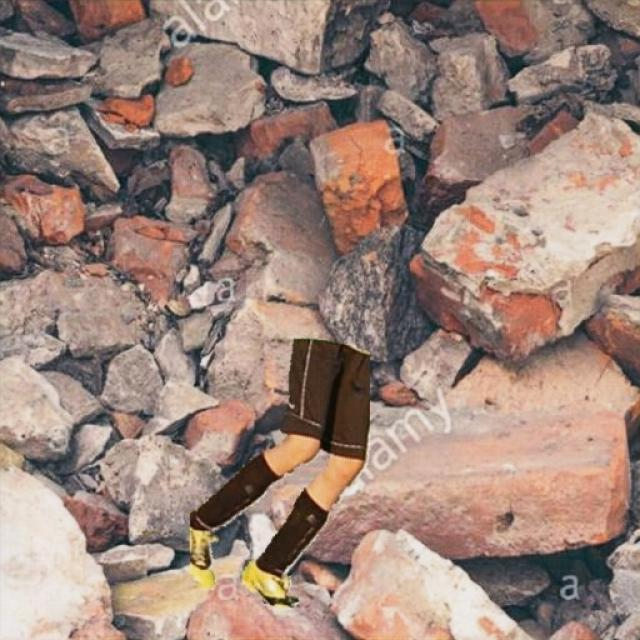Person in Rubble: (190, 338, 369, 606)
